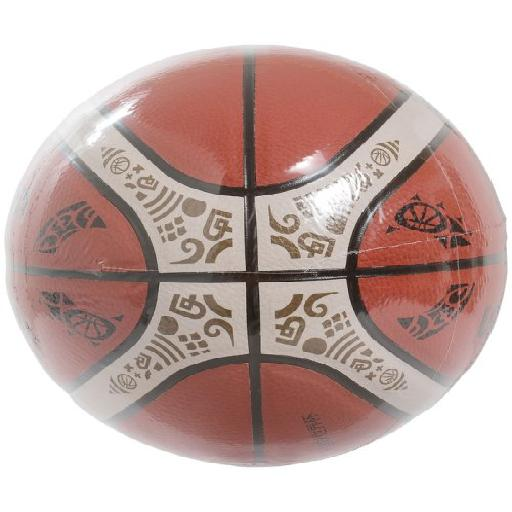ball: (4, 46, 506, 467)
